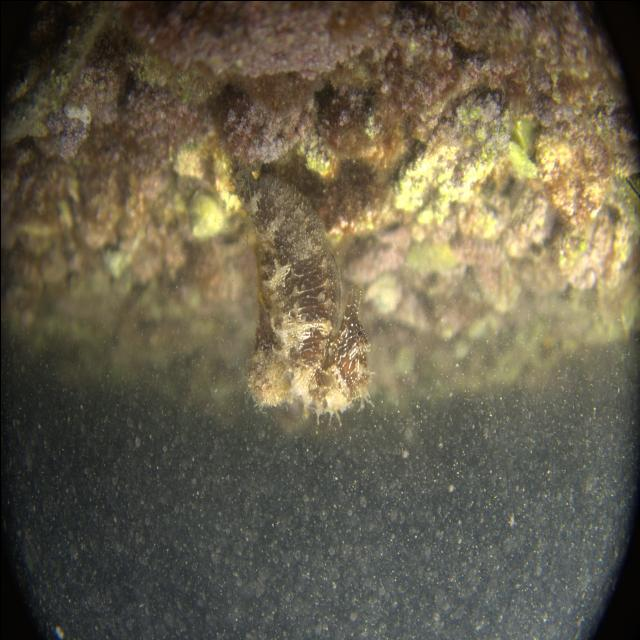Guttu: (326, 279, 374, 407)
